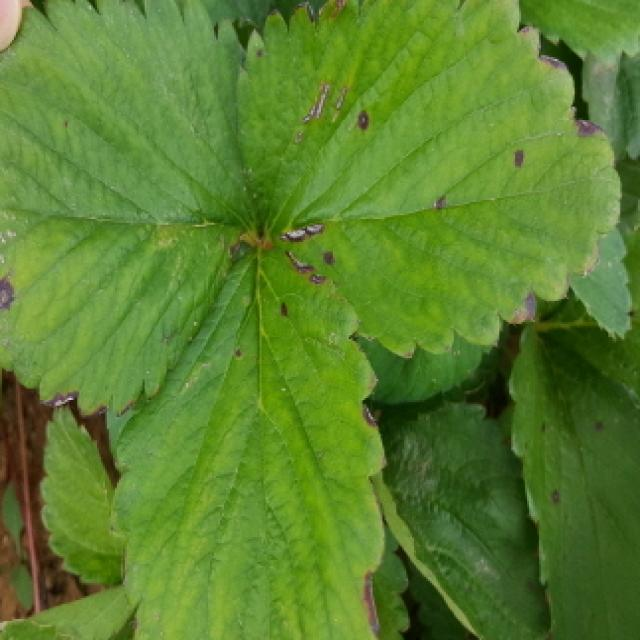Leaf Spot: (234, 0, 623, 359), (105, 239, 391, 640), (0, 0, 259, 421), (510, 324, 640, 640), (536, 197, 640, 412)
